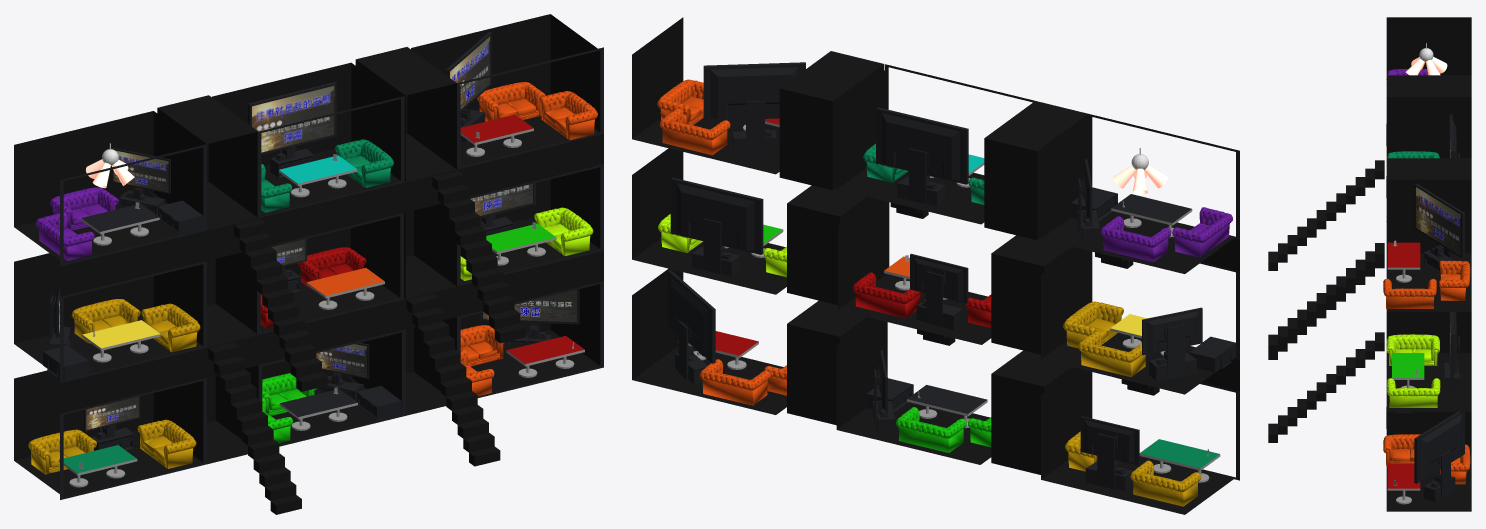
File: Rooms.fbx
3 views of the same model, side by side, from view 1: azimuth 30°, elevation 25°; view 2: azimuth 150°, elevation 25°; view 3: azimuth 270°, elevation 25° (orthographic). The views are drawn at different scales.
Parts seen in each view (by area): view 1: Rooms, Stairs, DiscoBall; view 2: Rooms, Stairs, DiscoBall; view 3: Rooms, Stairs, DiscoBall.
Boxes of the visible parts, left/top/right/bottom form: Rooms: left=14, top=14, right=603, bottom=499; Stairs: left=208, top=170, right=525, bottom=514; DiscoBall: left=86, top=143, right=134, bottom=188; Rooms: left=632, top=17, right=1239, bottom=514; Stairs: left=890, top=202, right=1159, bottom=395; DiscoBall: left=1112, top=148, right=1167, bottom=194; Rooms: left=1383, top=17, right=1471, bottom=511; Stairs: left=1268, top=160, right=1384, bottom=442; DiscoBall: left=1405, top=43, right=1447, bottom=75.
Size of the model in its own units: 1662 by 940 by 629.
